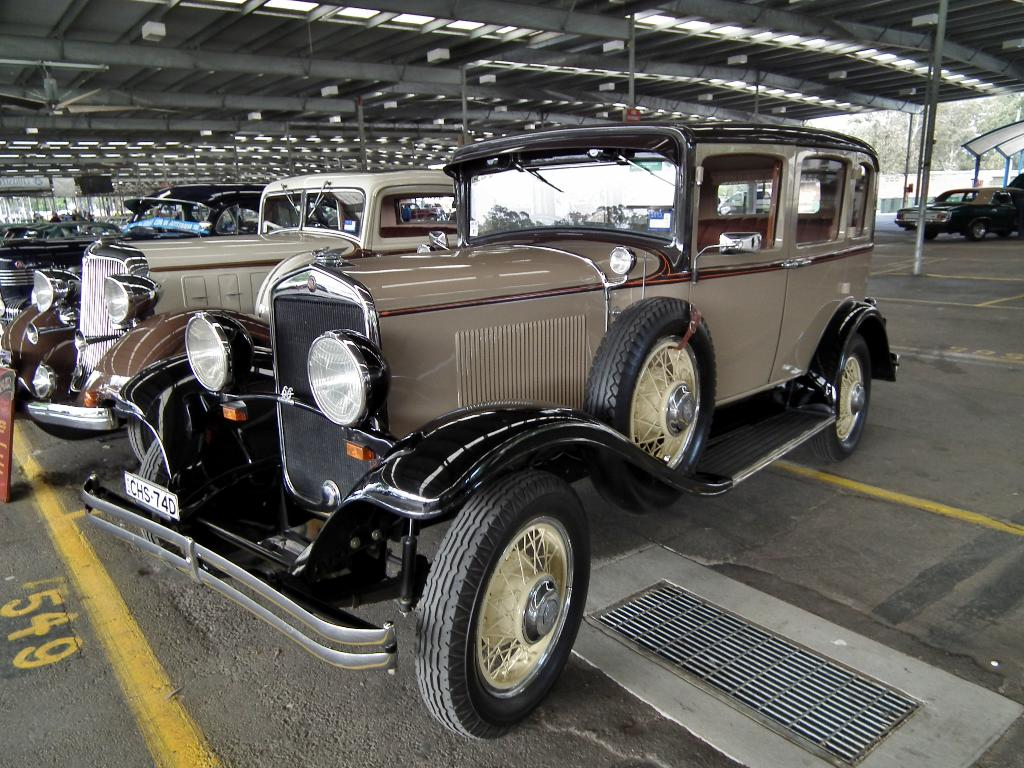mobil: (124, 118, 960, 688)
